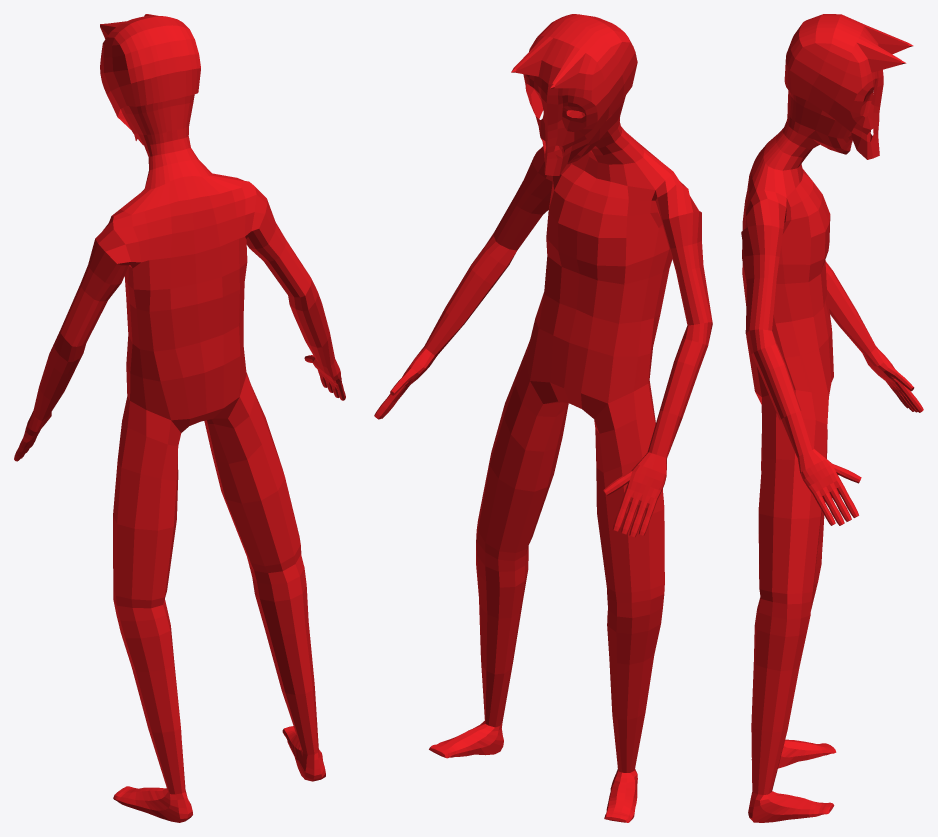
Rendered from reposoE_000292.obj.
3 renders of one model, left to right at view 1: azimuth 30°, elevation 25°; view 2: azimuth 150°, elevation 25°; view 3: azimuth 270°, elevation 25°, orthographic. The views are drawn at different scales.
Parts seen in each view (by area): view 1: Plane.002_Plane.001; view 2: Plane.002_Plane.001; view 3: Plane.002_Plane.001.
Part boxes in pixels (x1,y1,x2,y2): Plane.002_Plane.001: (14,14,345,822); Plane.002_Plane.001: (374,14,712,822); Plane.002_Plane.001: (741,14,923,822).
Size of the model in its own units: 2.93 by 7.18 by 1.58.
